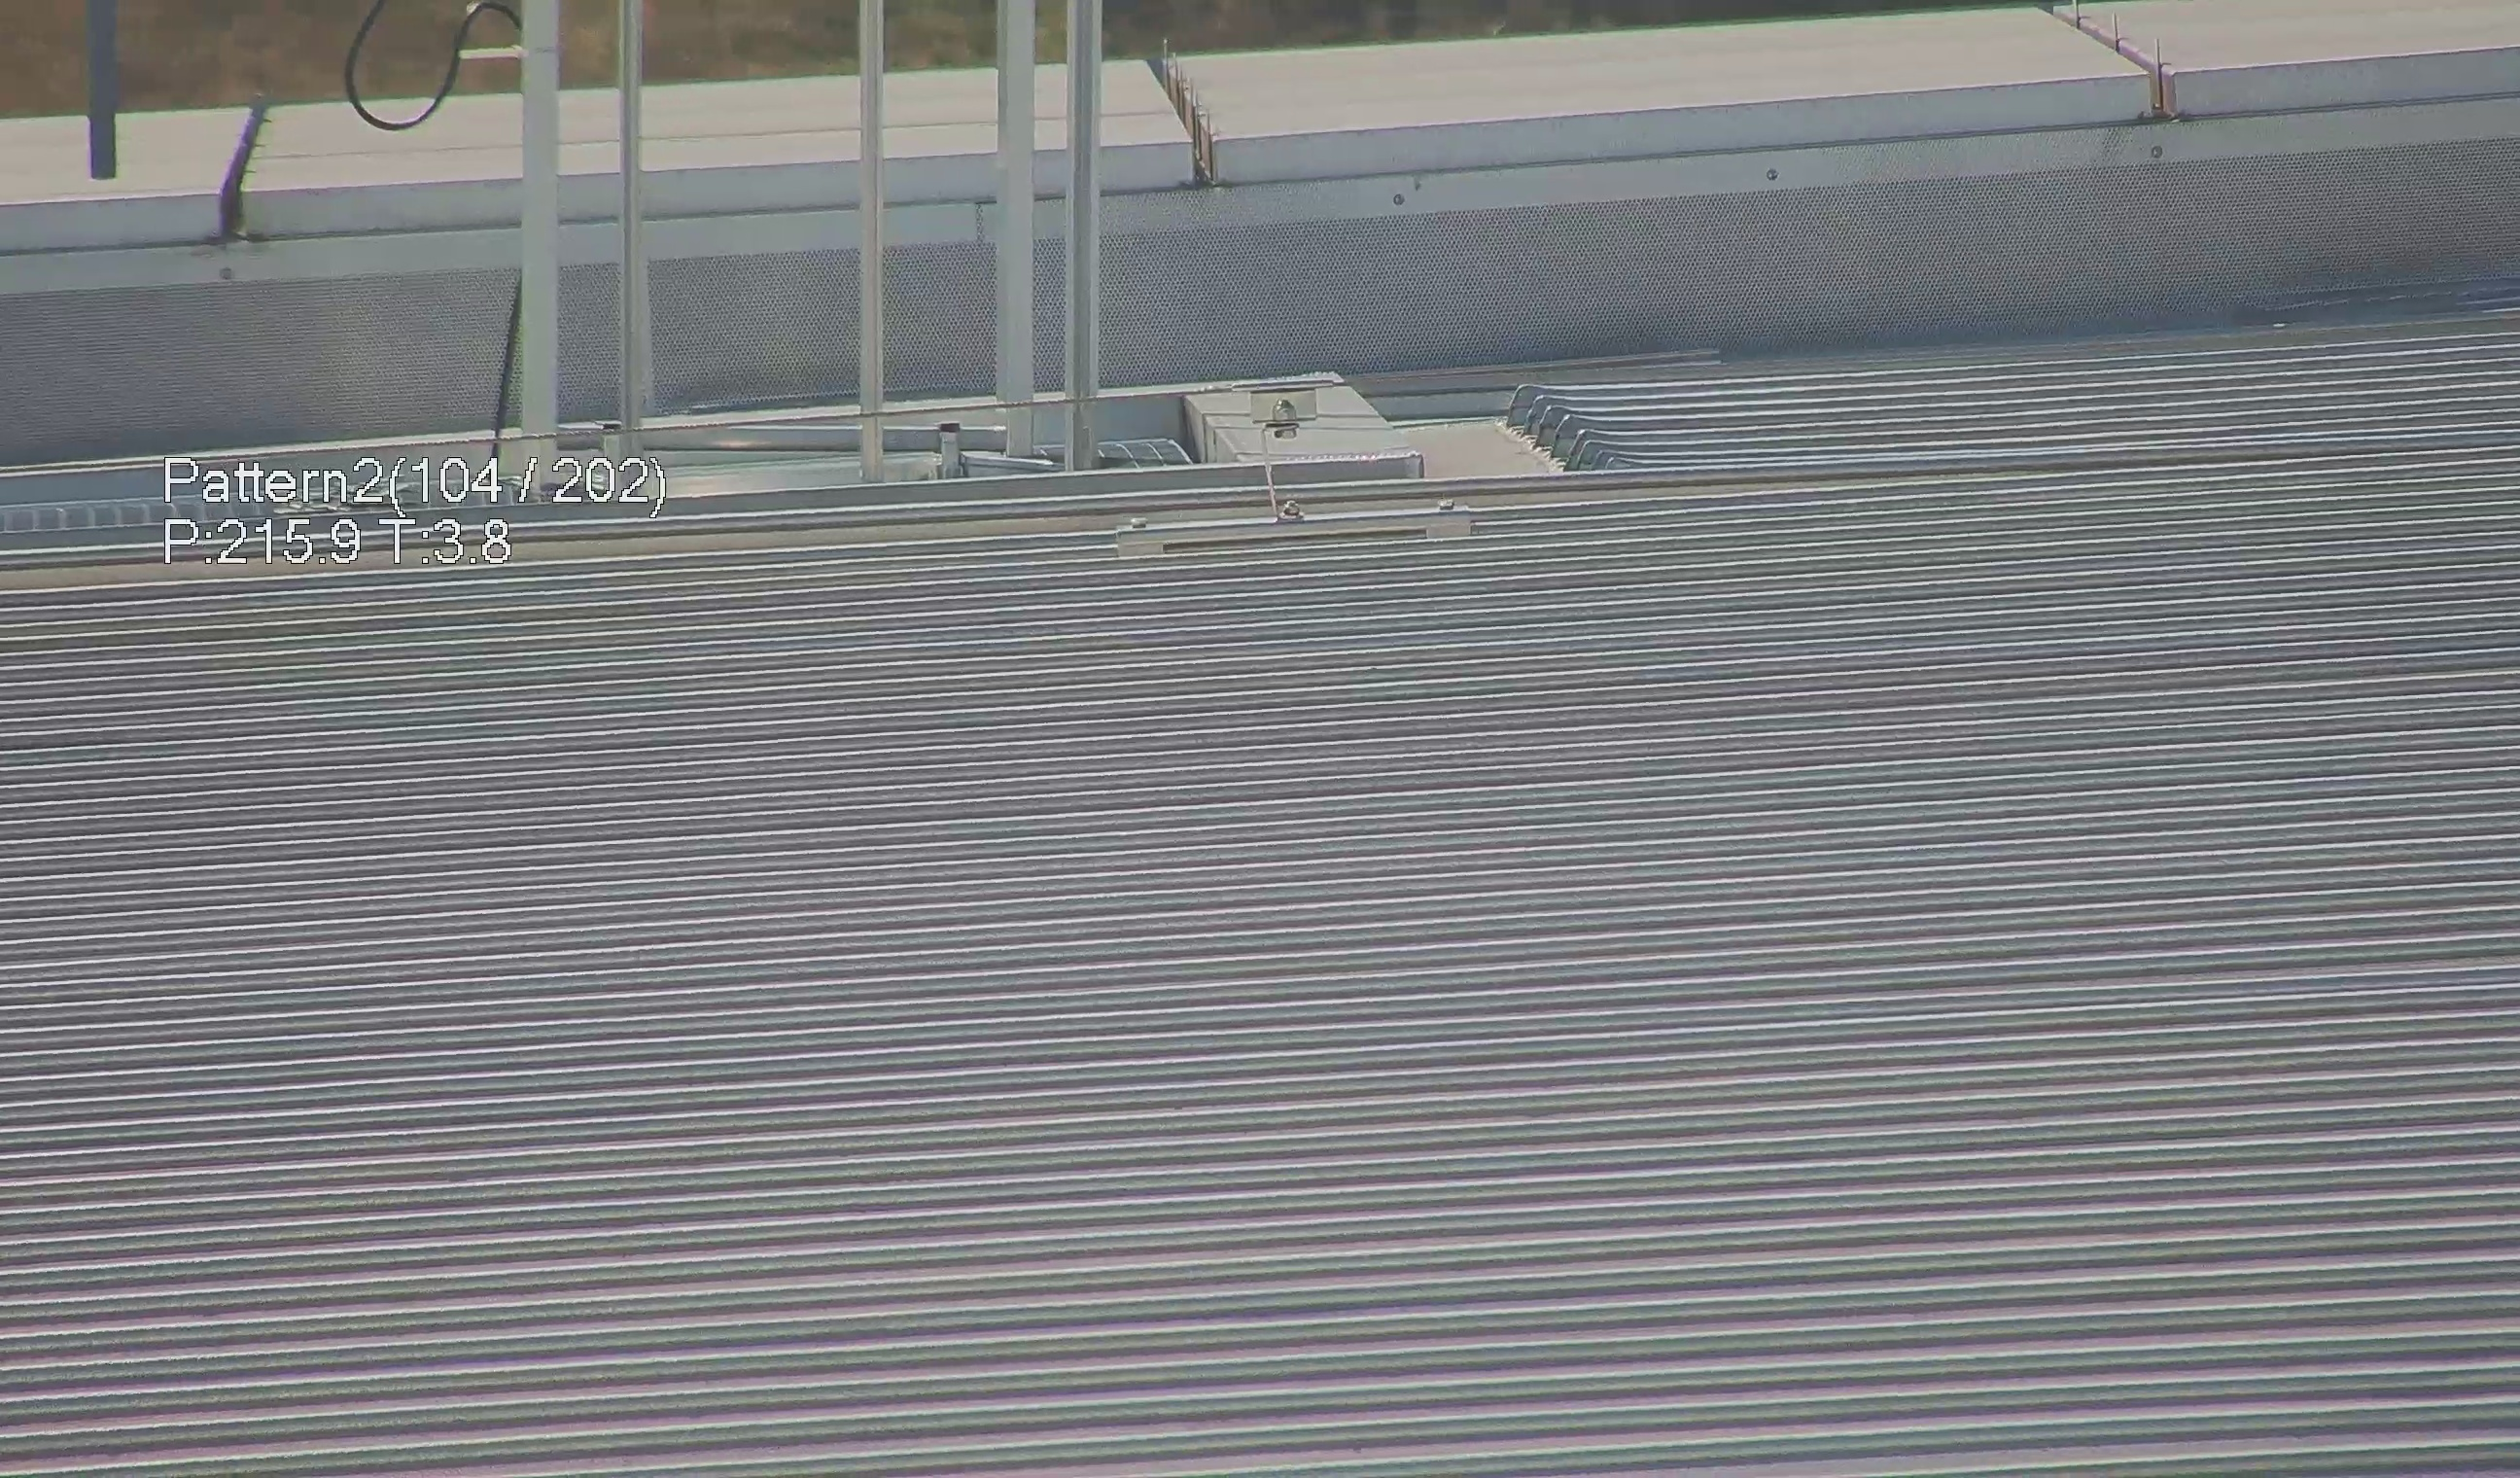Other: (331, 0, 529, 127)
